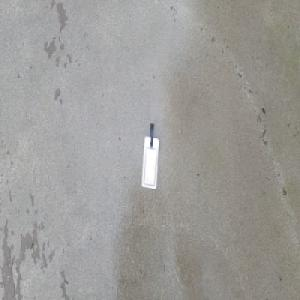LuggageTag: (140, 121, 159, 190)
